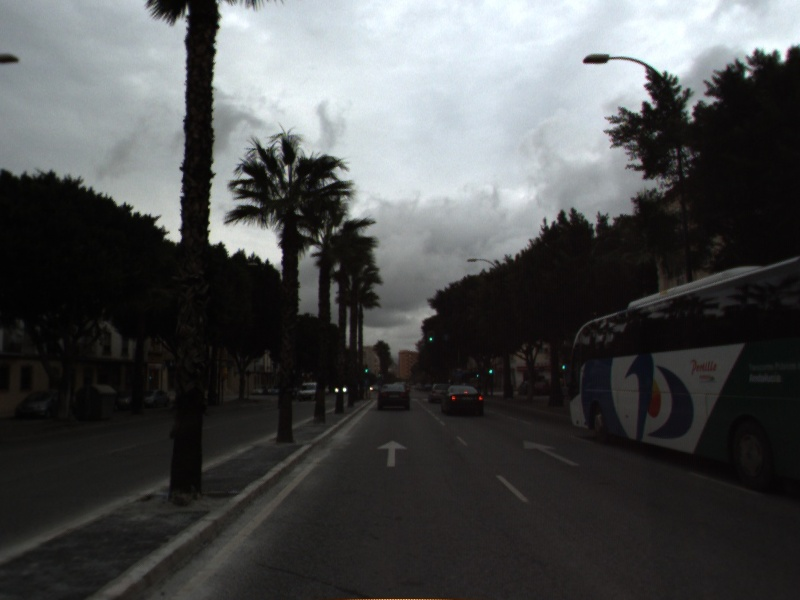STRAIGHT: (521, 438, 581, 468), (374, 438, 410, 469)
